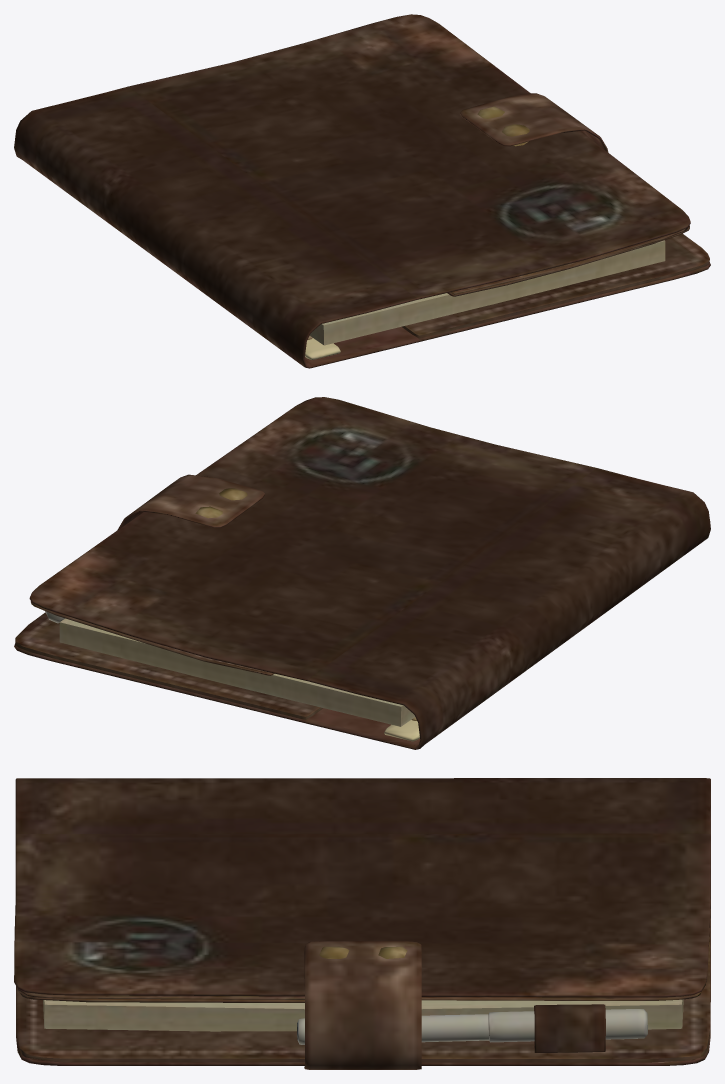
Rendered from binder_notebook__closed.glb.
The picture shows the model from 3 angles, top to bottom: view 1: azimuth 30°, elevation 25°; view 2: azimuth 150°, elevation 25°; view 3: azimuth 270°, elevation 25°; orthographic projection. The views are drawn at different scales.
Parts seen in each view (by area): view 1: binder_notebook; view 2: binder_notebook; view 3: binder_notebook.
Part boxes in pixels (x1,y1,x2,y2): binder_notebook: [14, 14, 710, 368]; binder_notebook: [14, 397, 710, 749]; binder_notebook: [14, 778, 710, 1069].
Size of the model in its own units: 0.1704 by 0.0252 by 0.1997.
Materials: 1 (1 with a texture image).
